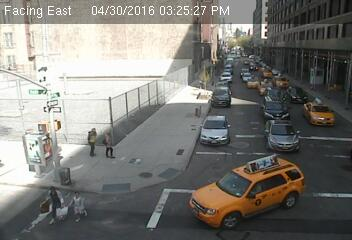neg: (144, 123, 179, 169), (201, 137, 233, 179), (225, 51, 254, 90), (29, 93, 58, 132), (281, 108, 309, 146), (50, 49, 78, 85), (172, 66, 197, 99), (121, 43, 146, 76), (18, 134, 41, 165), (250, 159, 272, 188)
pos: (37, 181, 68, 222), (64, 185, 92, 222), (102, 129, 123, 157), (81, 122, 101, 150)
